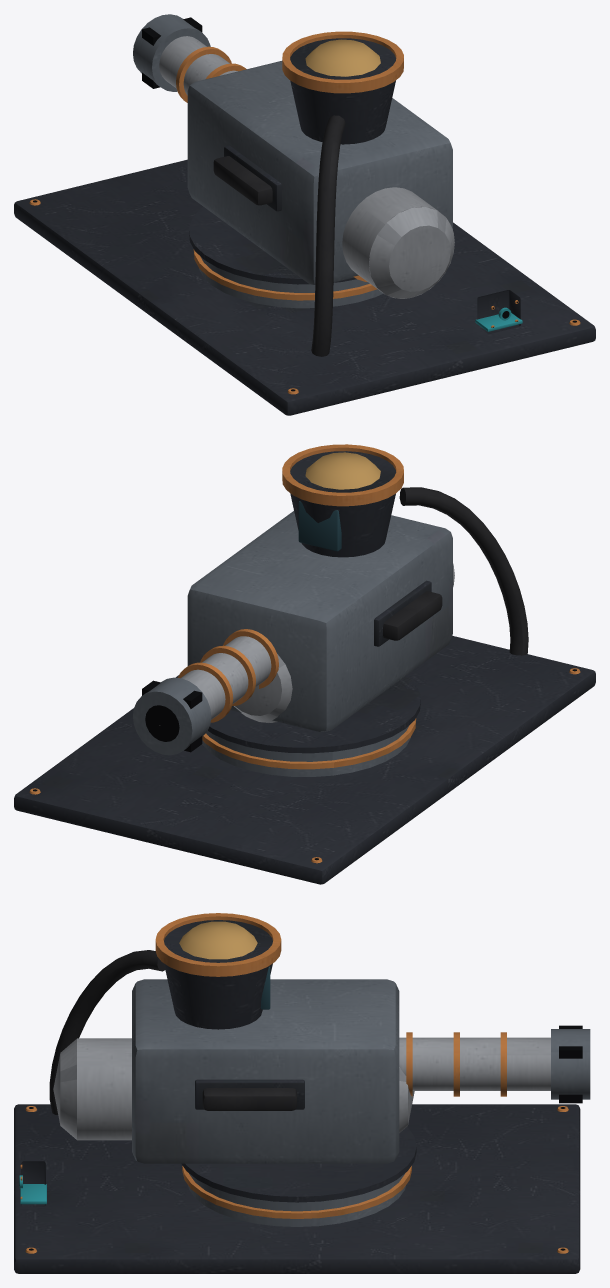
The model's file is potato_blaster_mounted.glb.
The picture shows the model from 3 angles, top to bottom: view 1: azimuth 30°, elevation 25°; view 2: azimuth 150°, elevation 25°; view 3: azimuth 270°, elevation 25°; orthographic projection. The views are drawn at different scales.
Visible parts, largest first — view 1: Body, Barrel; view 2: Body, Barrel; view 3: Body, Barrel.
Part boxes in pixels (x1,y1,x2,y2): Body: [14, 31, 595, 415]; Barrel: [133, 14, 246, 102]; Body: [14, 444, 595, 884]; Barrel: [133, 629, 278, 755]; Body: [14, 913, 580, 1273]; Barrel: [399, 1025, 590, 1103].
Bounding box in the file's own units: 0.47 × 0.377 × 0.74.
10 materials, 5 textured.
